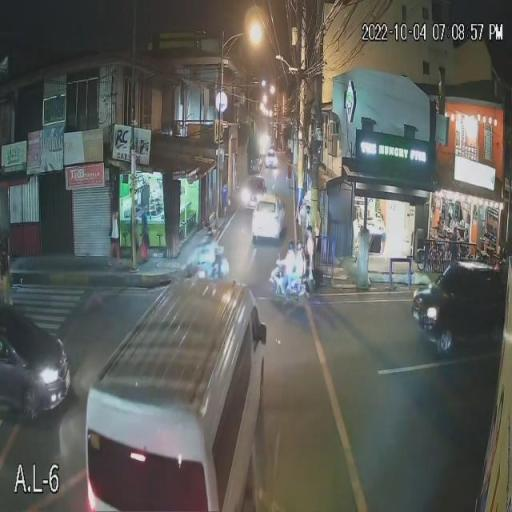helmet: (207, 226, 217, 238), (288, 240, 296, 249)
motorcycle: (267, 267, 311, 297), (196, 246, 231, 280)
rider: (205, 241, 224, 276), (278, 251, 292, 297)
